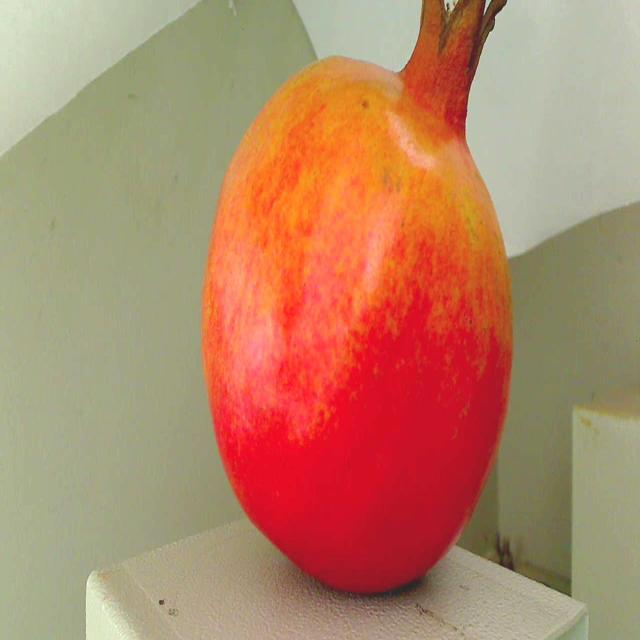pomegranate: (205, 0, 530, 620)
